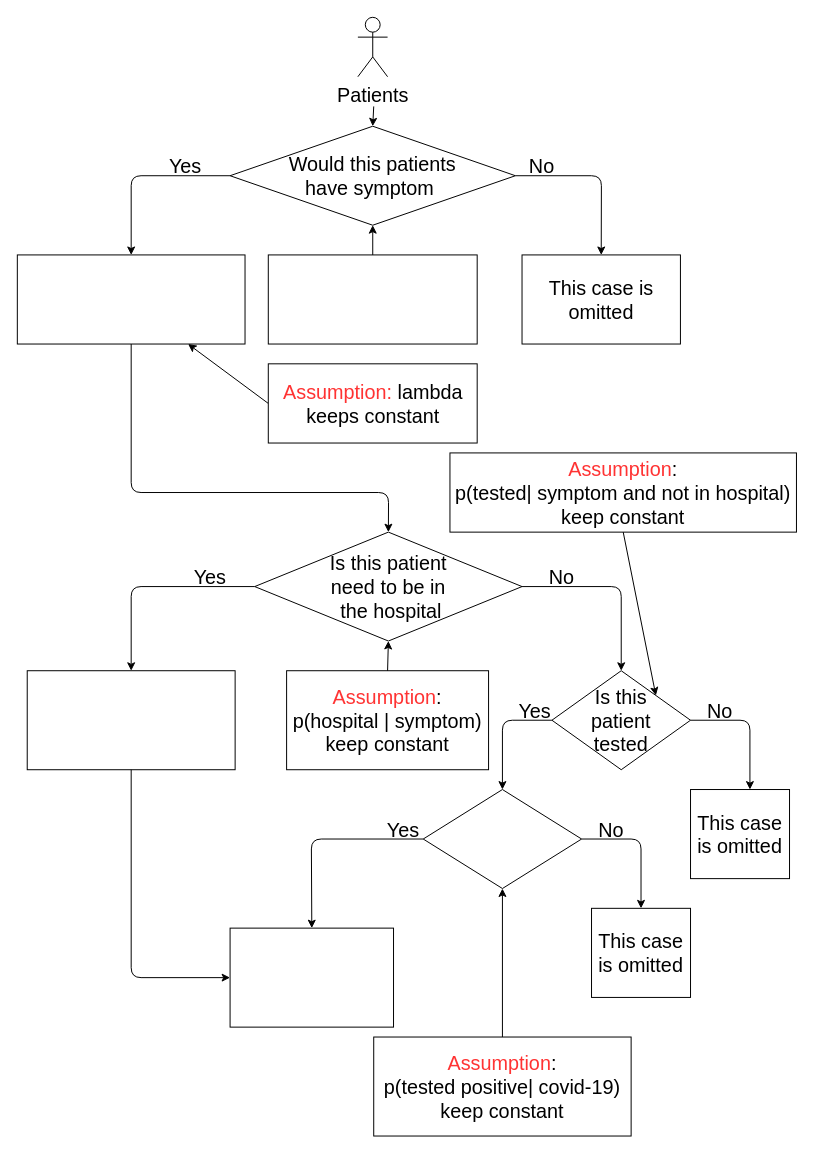
This 814x1153 diagram has some shape labels left out. Each missing label, with the centre of its shape:
"After n days, this Patient has symptom n ~ Geo(lambda)" belongs at point (130, 299).
"Assumption : p(symptom| covid-19) keep constant" belongs at point (372, 299).
"Is the result positive" belongs at point (502, 839).
"The number of covid-19 patients is recorded" belongs at point (311, 977).
"The number of patients new to the hospital is recorded" belongs at point (130, 720).
